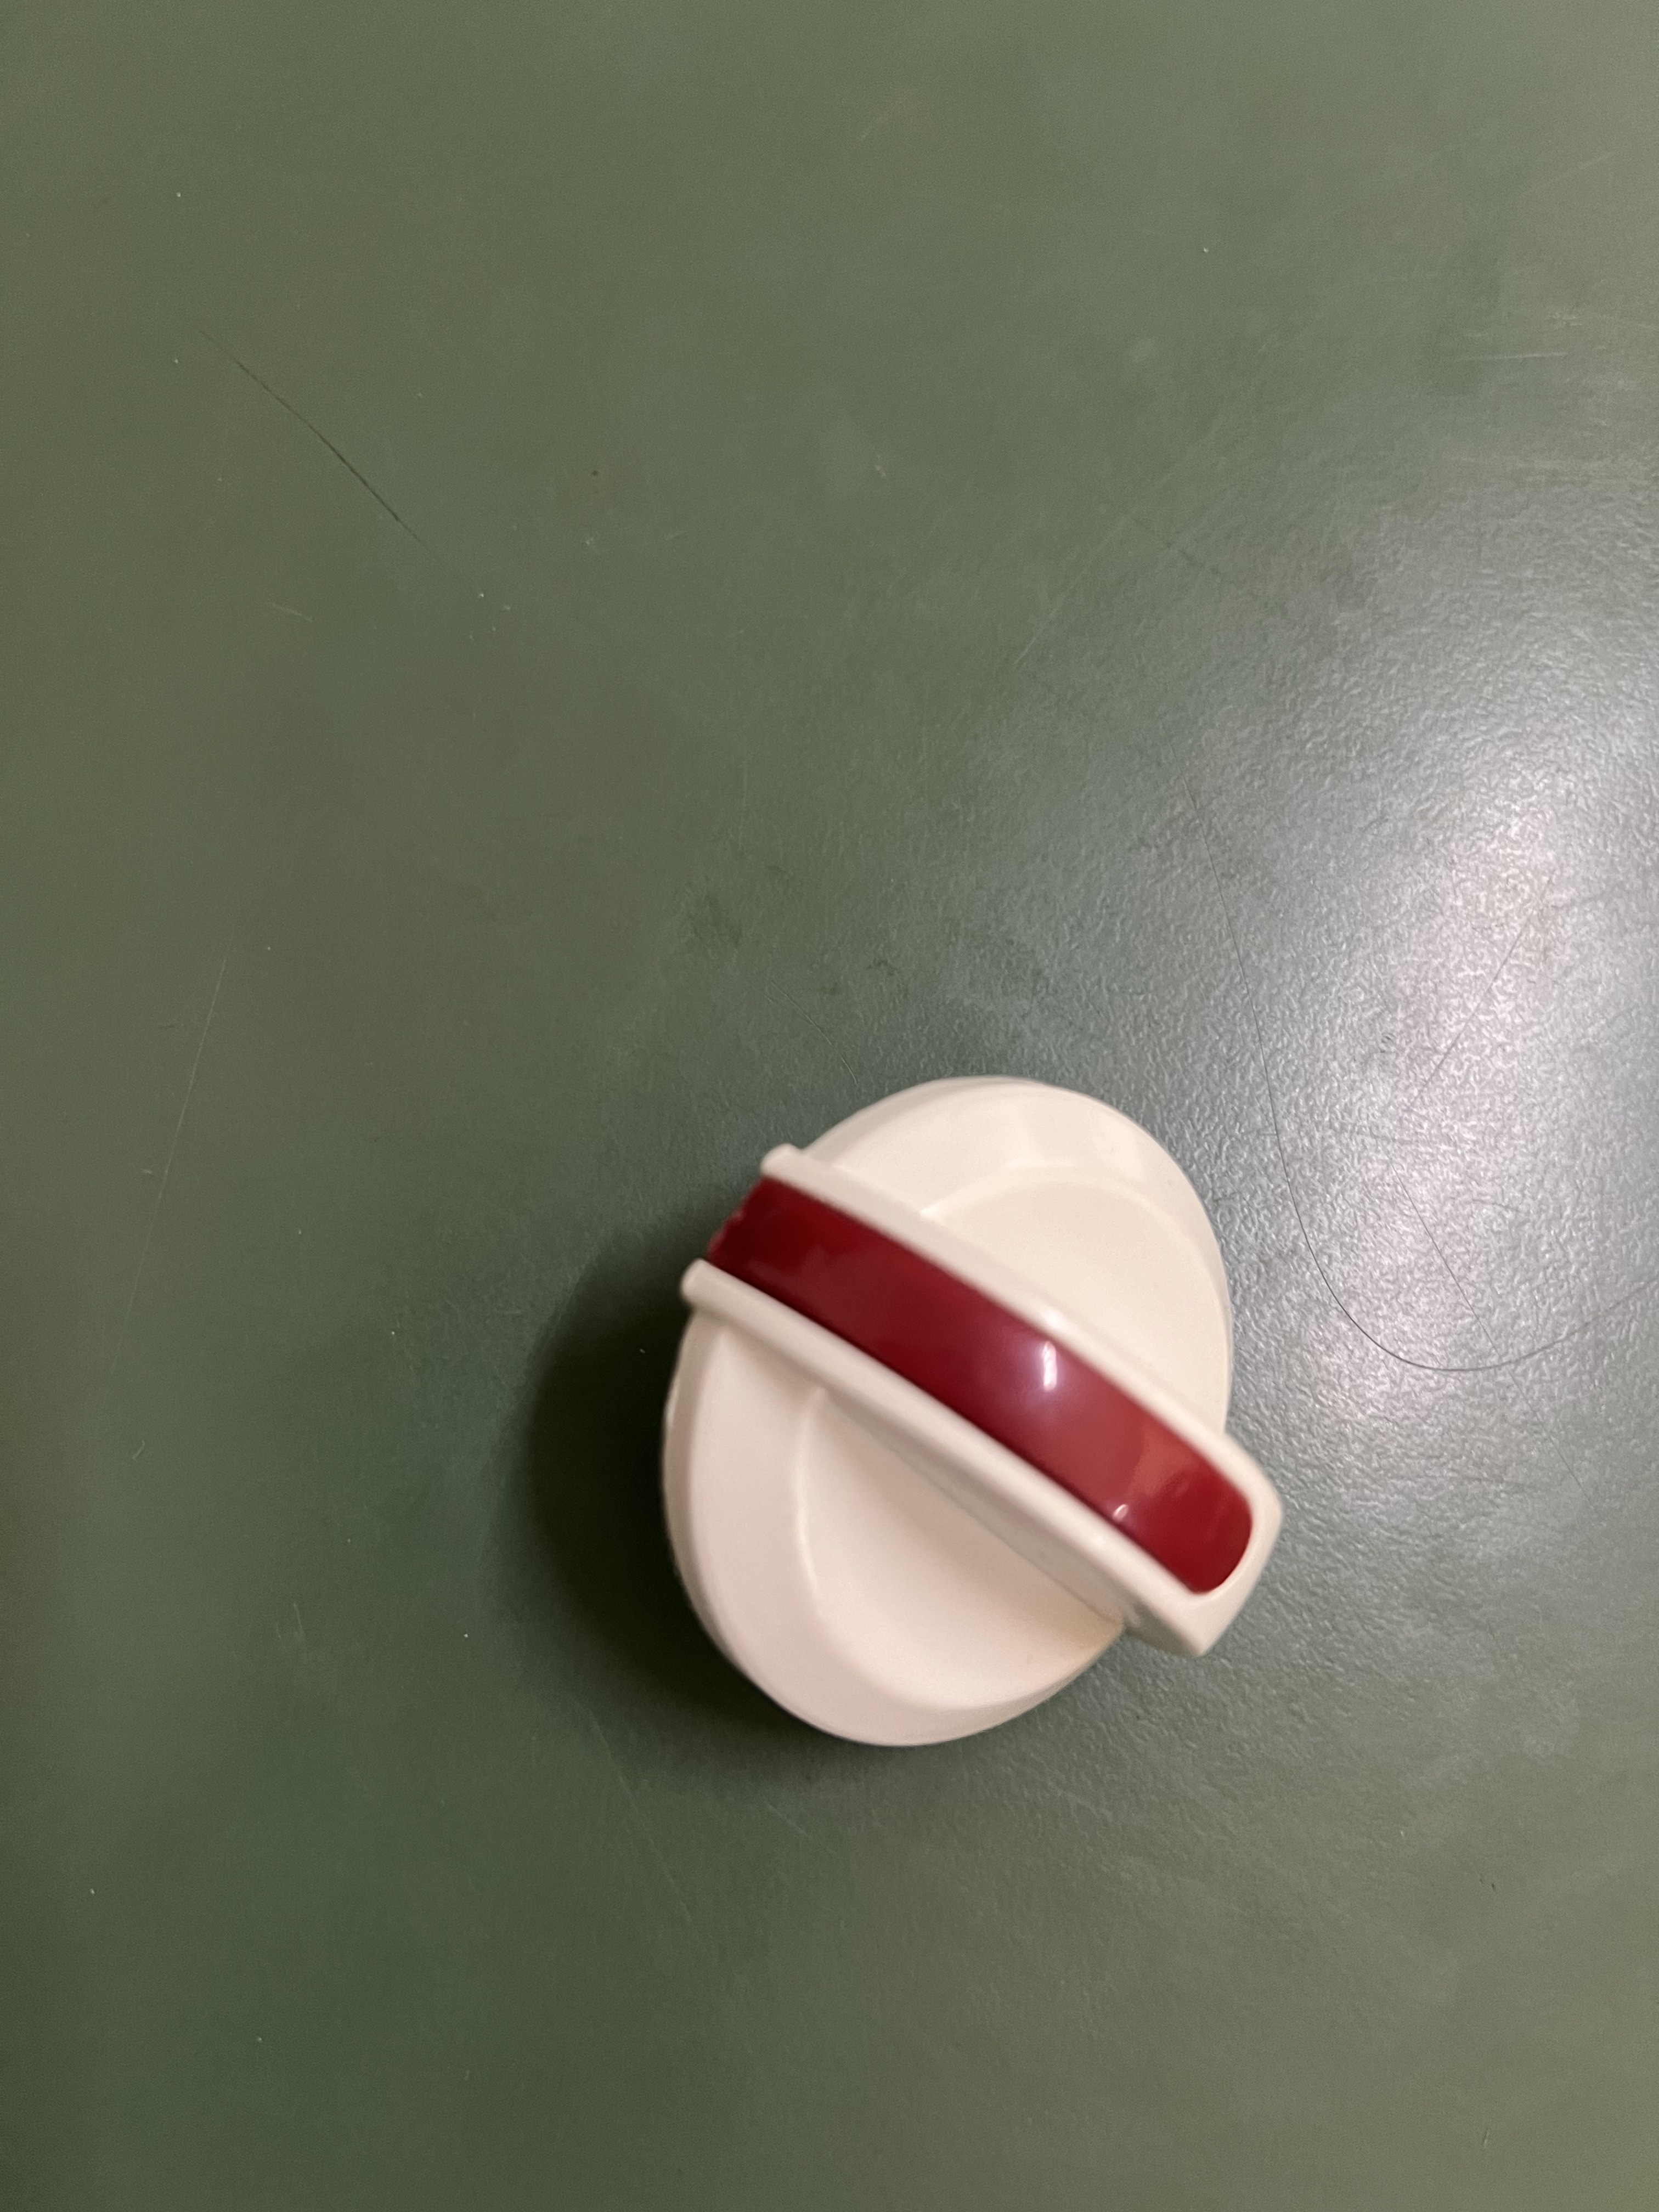regulator: (650, 1090, 1288, 1750)
